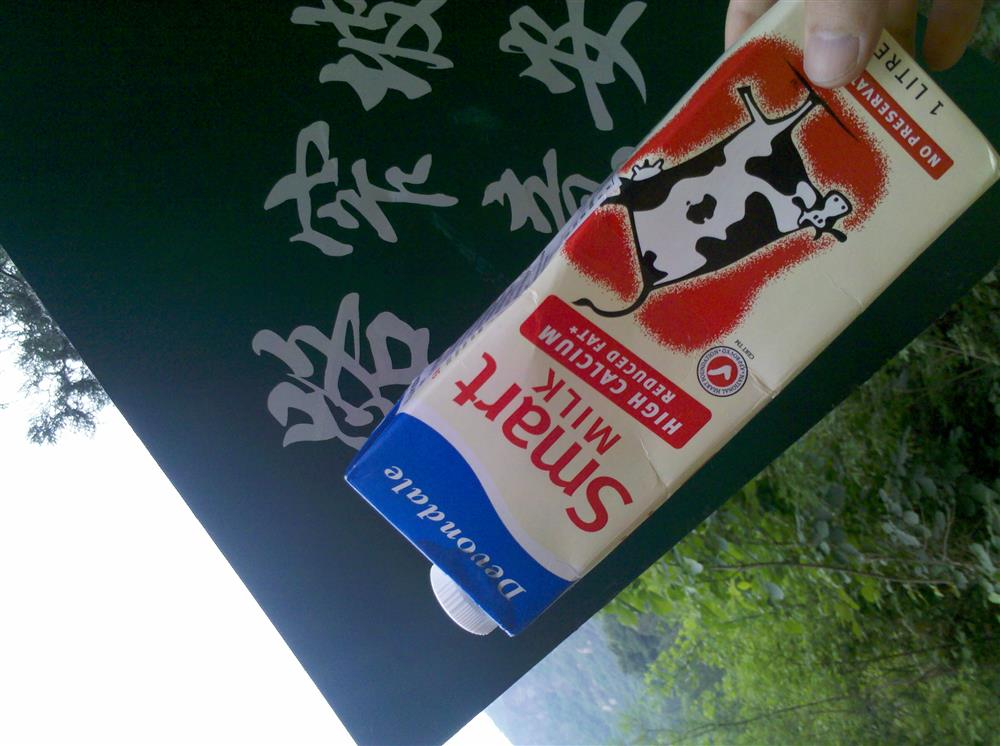Smart_Milk: (340, 25, 990, 646)
